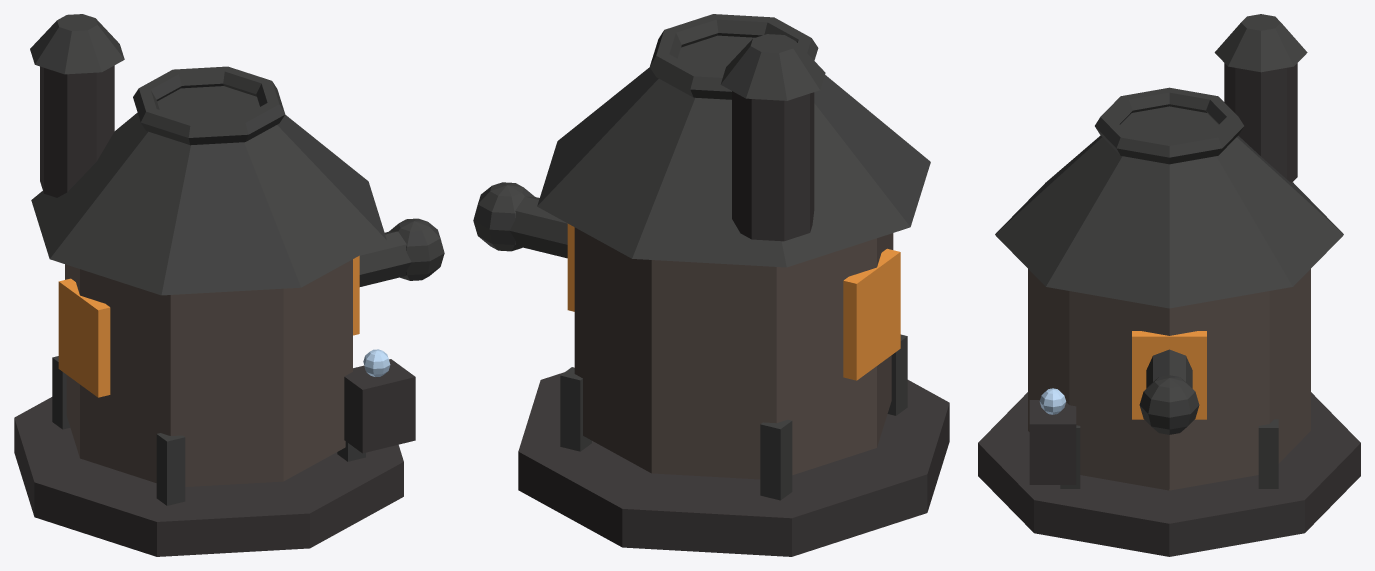
Rendered from MiniOreRefiner.fbx.
3 renders of one model, left to right at view 1: azimuth 30°, elevation 25°; view 2: azimuth 150°, elevation 25°; view 3: azimuth 270°, elevation 25°, orthographic. The views are drawn at different scales.
Parts seen in each view (by area): view 1: MiniOreRefiner; view 2: MiniOreRefiner; view 3: MiniOreRefiner.
Part boxes in pixels (x1=…): MiniOreRefiner: x1=14, y1=14, x2=444, y2=556; MiniOreRefiner: x1=473, y1=14, x2=949, y2=556; MiniOreRefiner: x1=978, y1=14, x2=1360, y2=556.
Size of the model in its own units: 2.68 by 2.75 by 2.3.
Materials: 5 (5 with a texture image).
